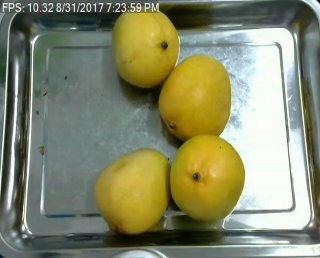Mango: (169, 135, 246, 223), (94, 147, 170, 233), (158, 53, 231, 140), (114, 5, 178, 87)
